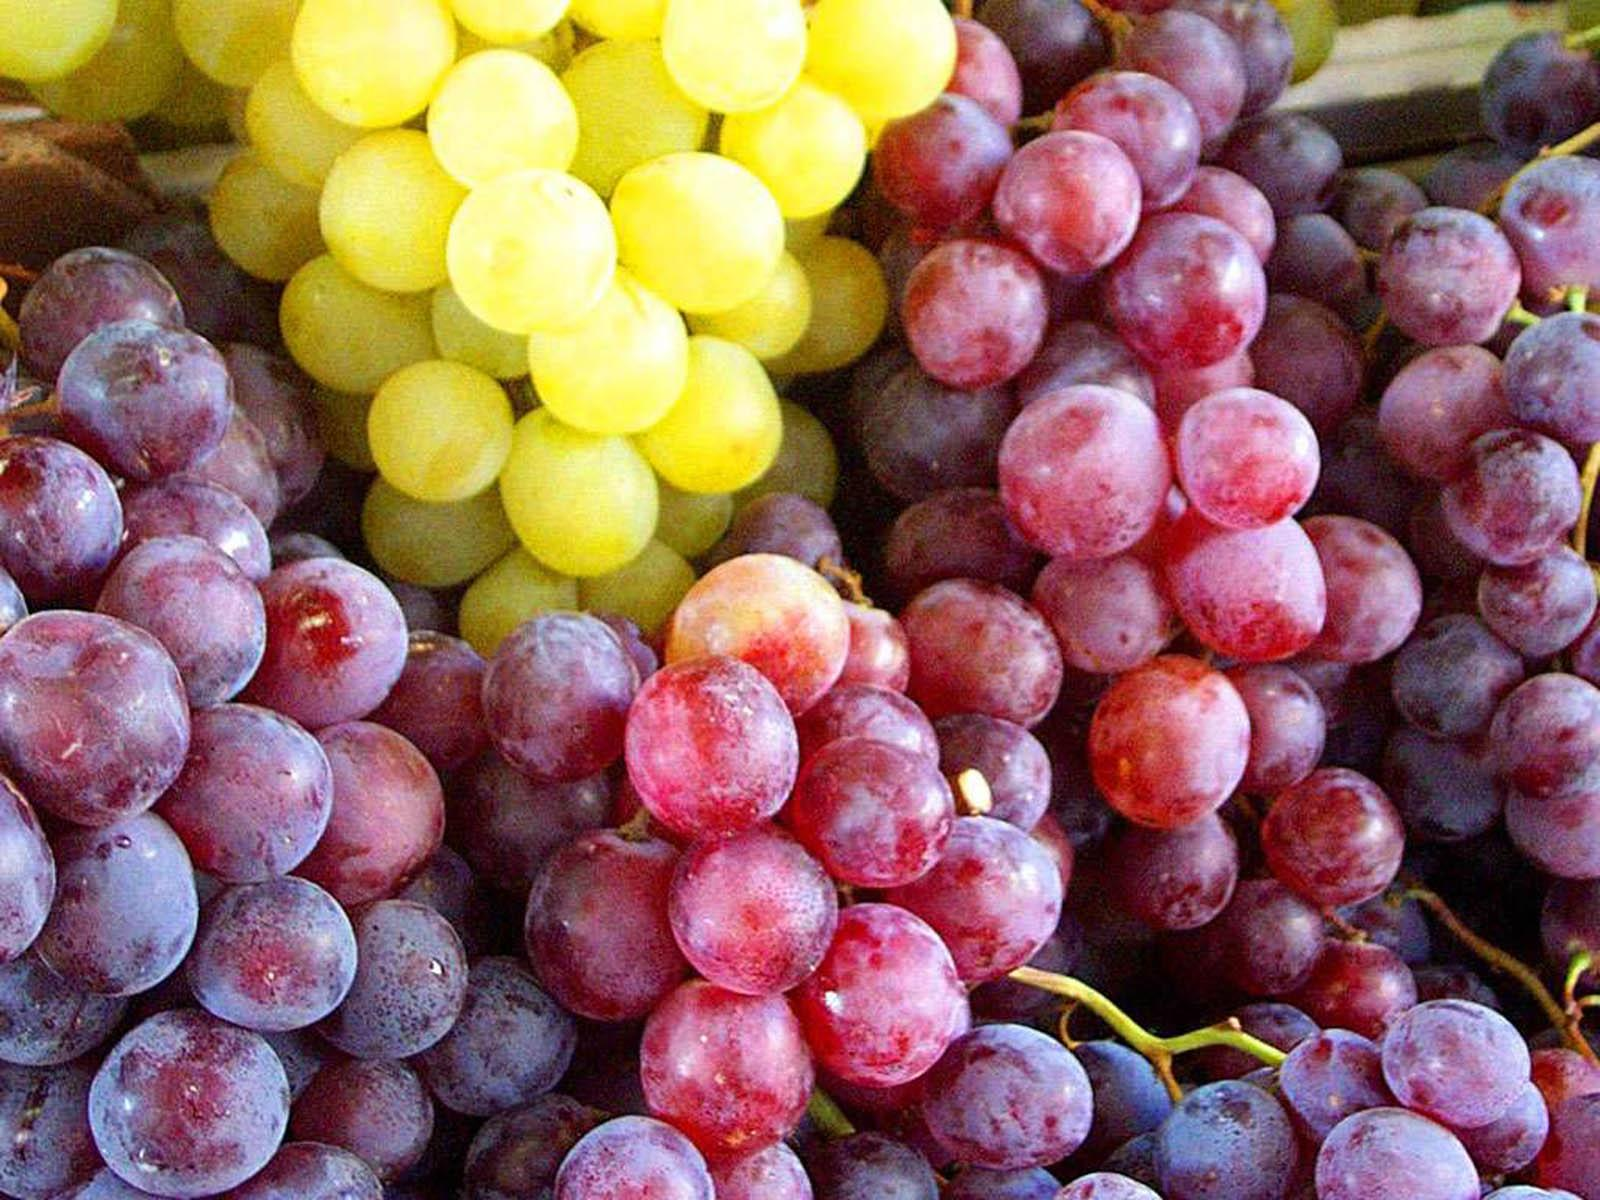grape: (0, 573, 1600, 1200), (980, 1, 1600, 1200), (162, 0, 892, 527), (0, 331, 434, 1200)
